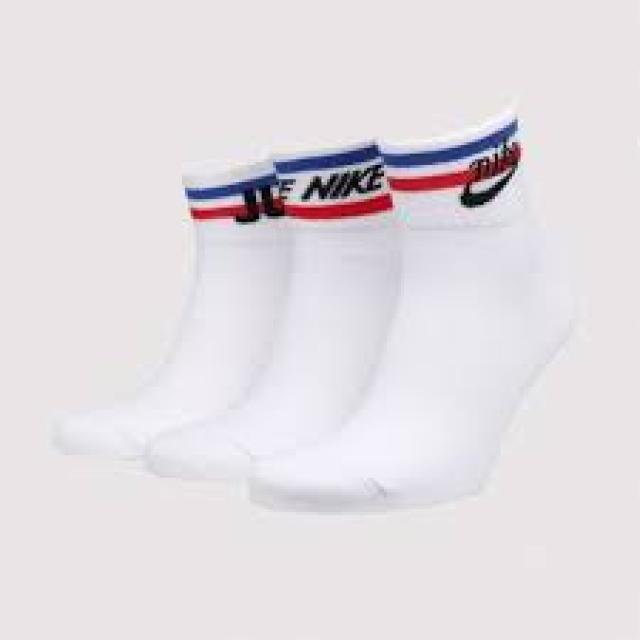sock: (245, 108, 578, 512), (142, 140, 401, 483), (48, 154, 290, 460)
